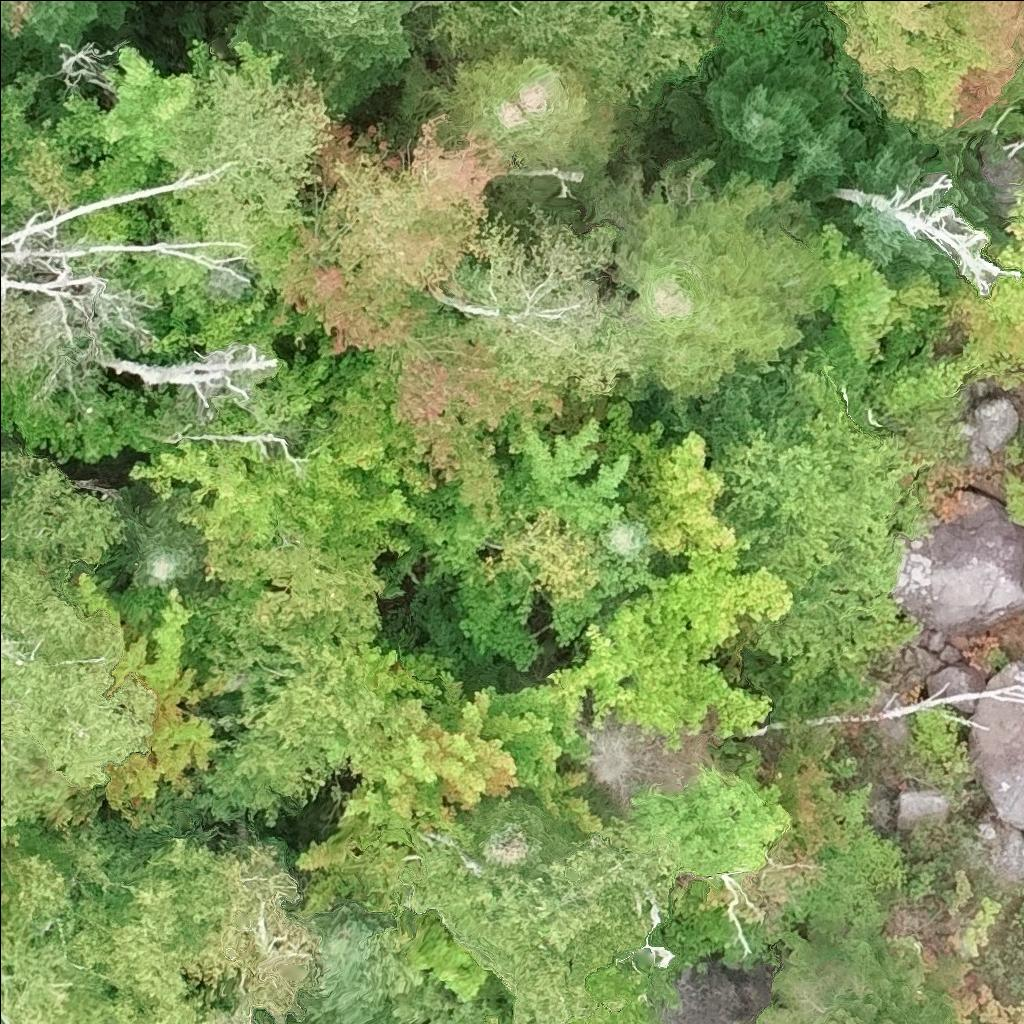crown: (132, 335, 436, 558), (0, 448, 156, 845), (696, 338, 930, 594), (398, 813, 683, 1023), (620, 141, 834, 401), (148, 28, 349, 297), (293, 664, 519, 887), (196, 635, 454, 821), (50, 818, 276, 1023), (428, 203, 648, 400), (318, 110, 520, 316), (67, 572, 227, 829), (550, 591, 777, 751), (389, 322, 566, 525), (201, 508, 388, 689), (428, 0, 721, 103), (424, 42, 647, 175), (824, 0, 1023, 138), (746, 535, 924, 684), (55, 36, 214, 202), (494, 399, 669, 539), (273, 219, 445, 359), (0, 850, 132, 1023), (817, 218, 960, 371), (694, 40, 847, 179), (237, 0, 417, 113), (481, 679, 607, 834), (757, 924, 954, 1023), (639, 535, 795, 660), (624, 429, 738, 562), (583, 709, 714, 817), (0, 74, 97, 212), (812, 196, 960, 283), (298, 898, 401, 1023), (457, 783, 587, 877), (100, 487, 206, 600), (0, 0, 145, 77), (947, 268, 1023, 389), (784, 110, 874, 202), (853, 110, 925, 194), (43, 35, 123, 105), (0, 823, 55, 923), (602, 513, 662, 563), (986, 187, 1023, 268), (427, 1002, 488, 1023), (0, 360, 9, 380)
